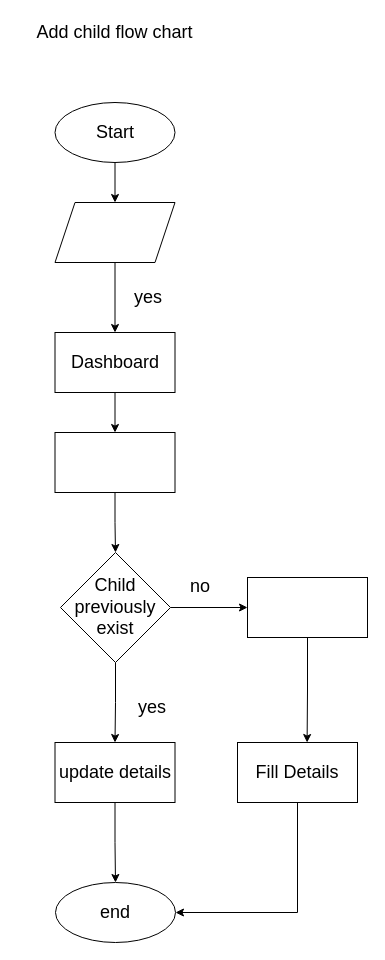
Image size: 385x960. Some labels were removed from this diagram. The shapes that lost their labels are listed below. From the top down, each one's centre as x and y in pixels, then its label:
At point (114, 232): "Login".
At point (114, 462): "Child list".
At point (307, 607): "Add child".
